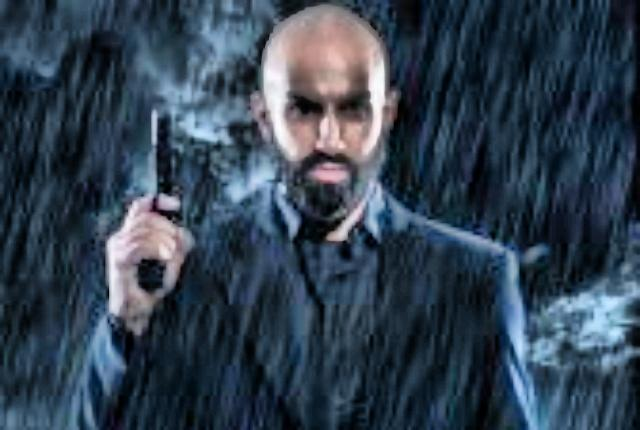pistol: (118, 87, 210, 300)
